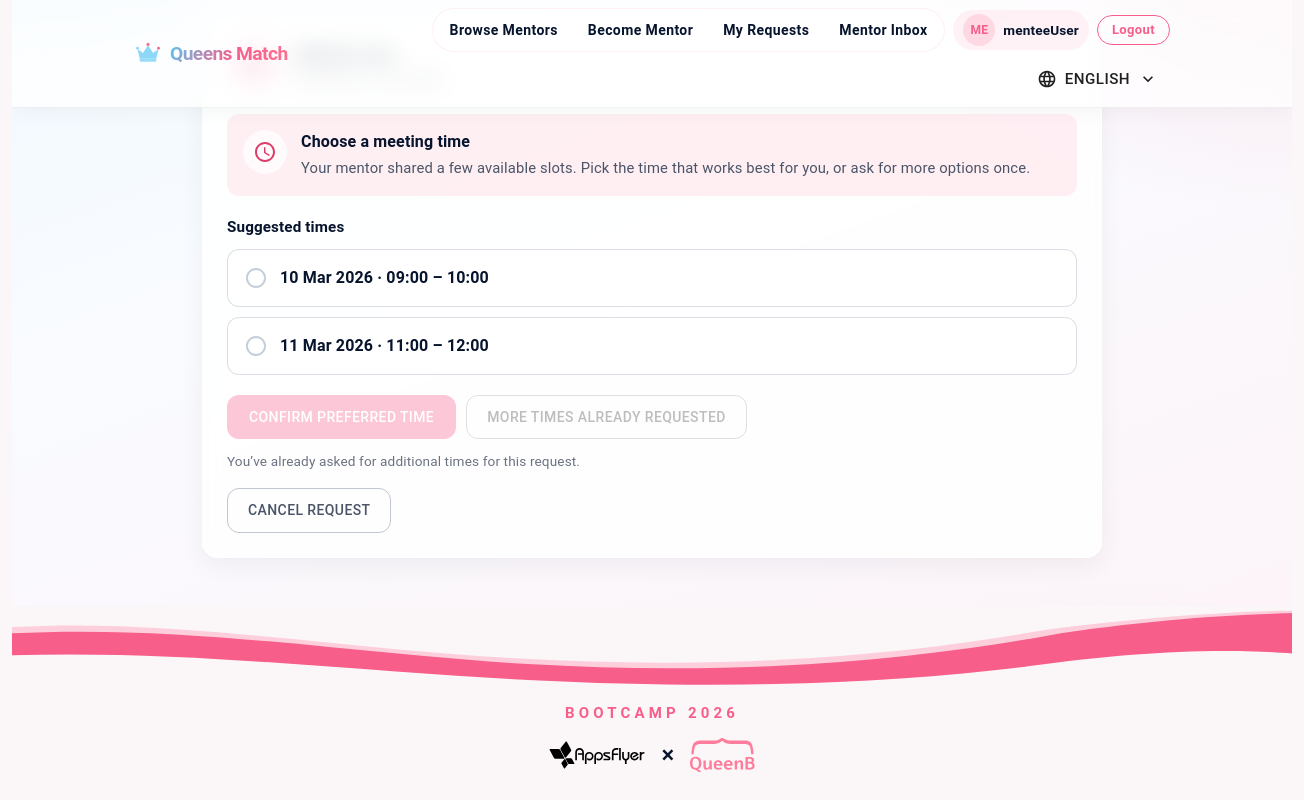
Test case: RequestDetailsPage › shows cancel error when cancelMatchingRequest fails
(page scrolled)
Click the button "Cancel request".
click(309, 510)  # box [227, 488, 392, 533]
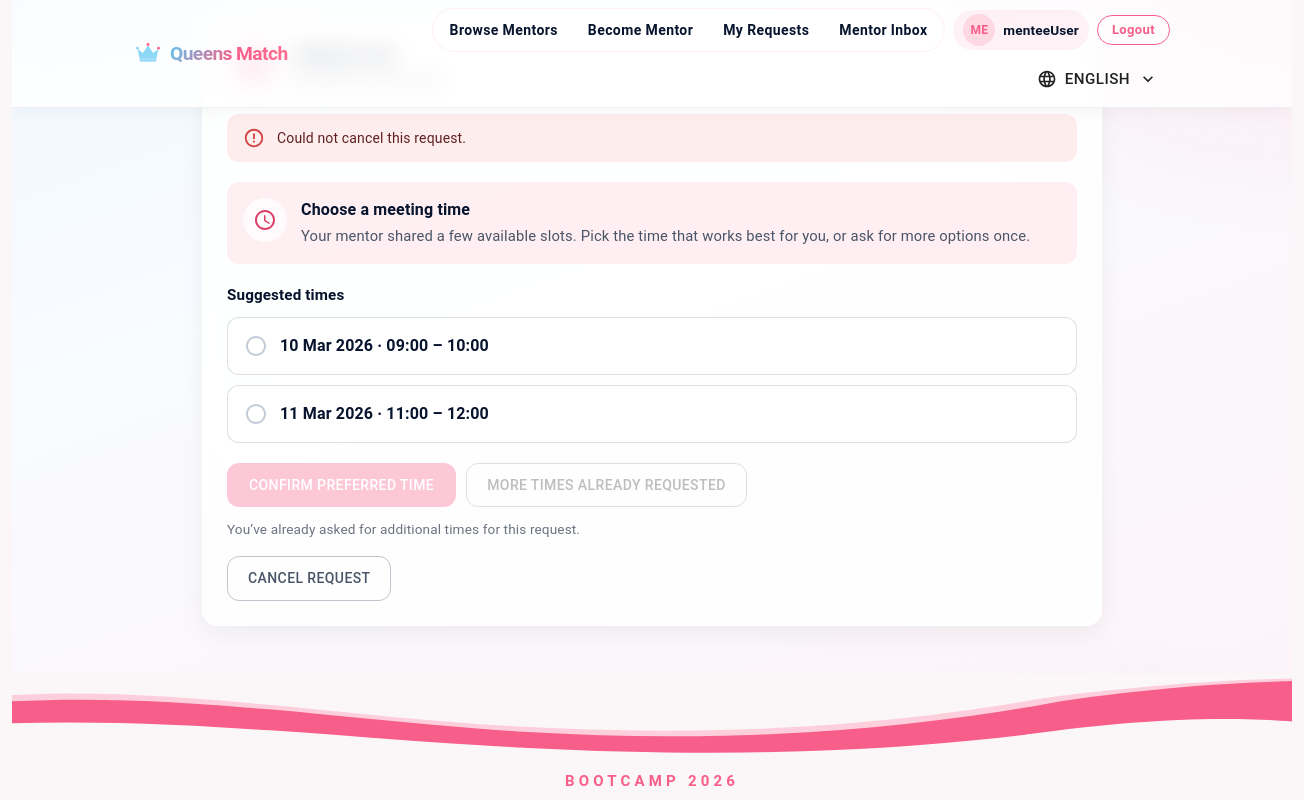
Check: the text "Could not cancel this request." is shown, box [277, 130, 466, 146]
